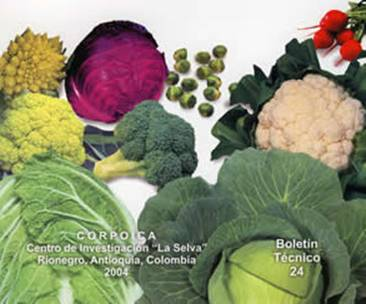cabbage: (133, 141, 365, 303), (0, 149, 140, 303)
